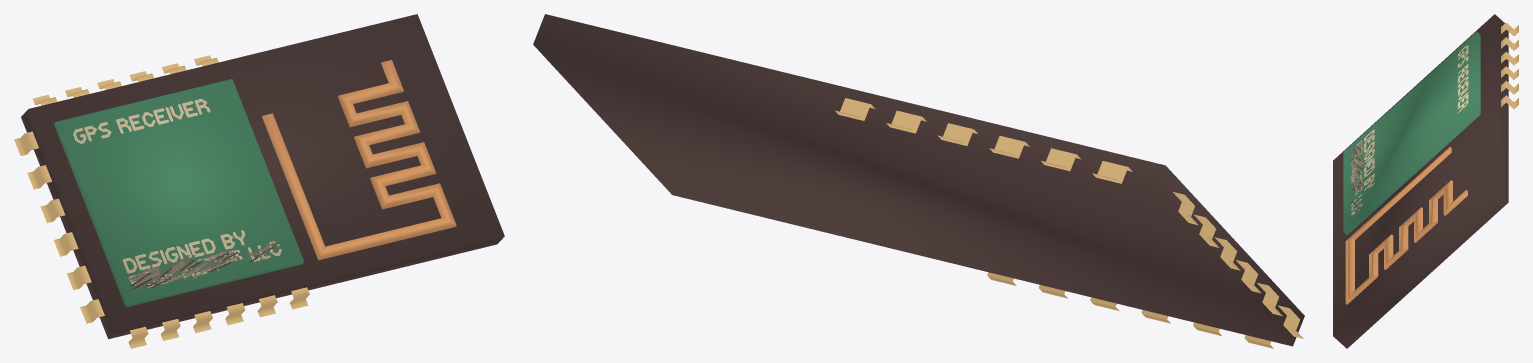
File: gps.glb
3 views of the same model, side by side, from view 1: azimuth 30°, elevation 25°; view 2: azimuth 150°, elevation 25°; view 3: azimuth 270°, elevation 25° (orthographic). The views are drawn at different scales.
Parts seen in each view (by area): view 1: gps_receiver; view 2: gps_receiver; view 3: gps_receiver.
Boxes of the visible parts, x1,y1,x2,y2 form: gps_receiver: [14, 14, 504, 348]; gps_receiver: [533, 14, 1304, 348]; gps_receiver: [1333, 14, 1518, 348].
Bounding box in the file's own units: 0.9001 × 0.3875 × 0.3878.
Materials: 1 (1 with a texture image).
